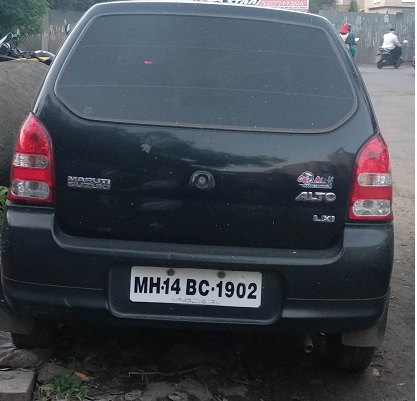licenseplate: (127, 264, 265, 310)
